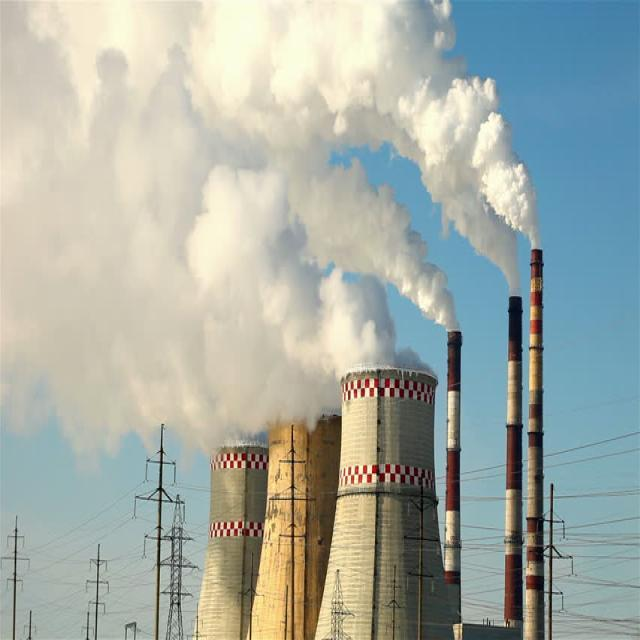Smoke: (0, 0, 541, 479)
